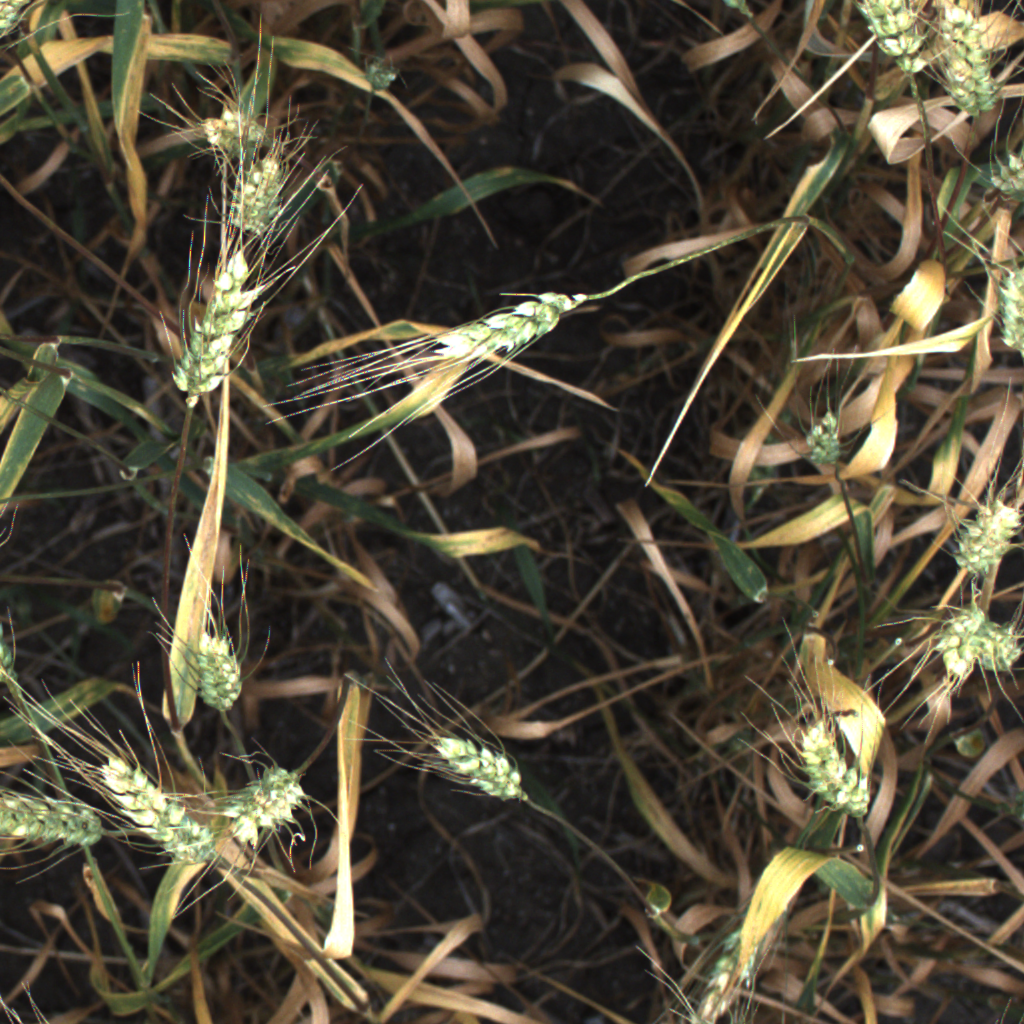wheat_head: (407, 269, 603, 378), (87, 754, 227, 876), (162, 232, 260, 406), (783, 708, 881, 824), (417, 724, 538, 813), (205, 128, 303, 235), (207, 758, 315, 854), (927, 600, 1024, 703), (933, 4, 1011, 124), (0, 778, 106, 857), (936, 488, 1022, 578), (850, 0, 941, 85), (180, 609, 251, 713), (190, 87, 277, 157), (978, 252, 1024, 367), (793, 404, 857, 476), (970, 145, 1024, 206), (0, 0, 40, 49)
